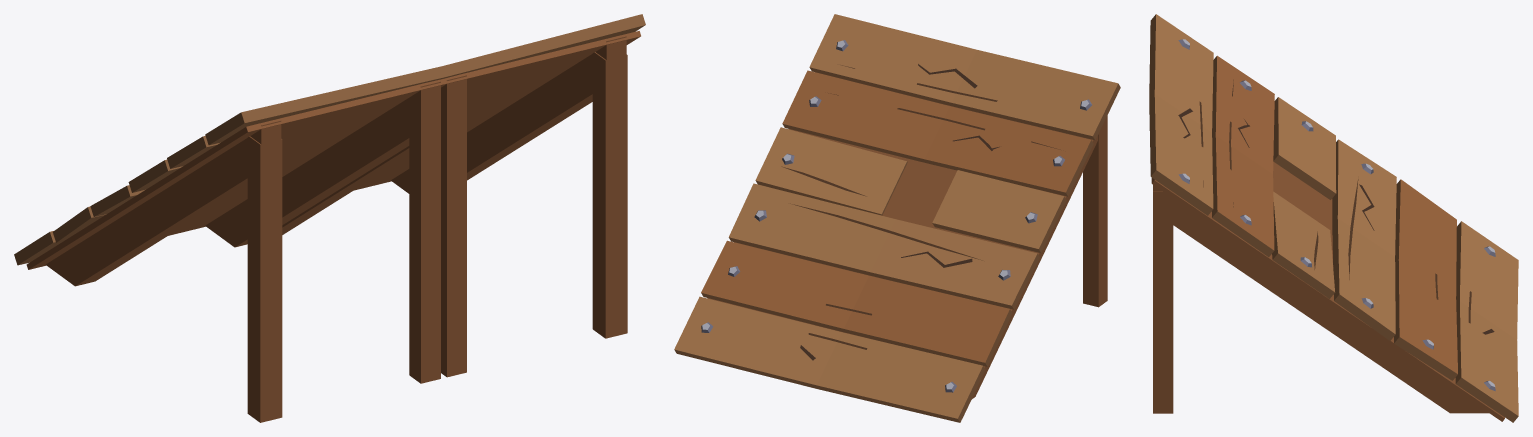
Rendered from ramp_plank_tiles_crack2.glb.
3 views of the same model, side by side, from view 1: azimuth 30°, elevation 25°; view 2: azimuth 150°, elevation 25°; view 3: azimuth 270°, elevation 25° (orthographic). The views are drawn at different scales.
Visible parts, largest first — view 1: Right, Left; view 2: Right, Left; view 3: Left, Right.
Boxes of the visible parts, x1,y1,x2,y2 form: Right: (14,66,445,422); Left: (282,14,645,377); Right: (816,50,1120,422); Left: (674,14,976,389); Left: (1149,94,1518,422); Right: (1149,14,1518,339).
Size of the model in its own units: 4 by 3.04 by 4.
